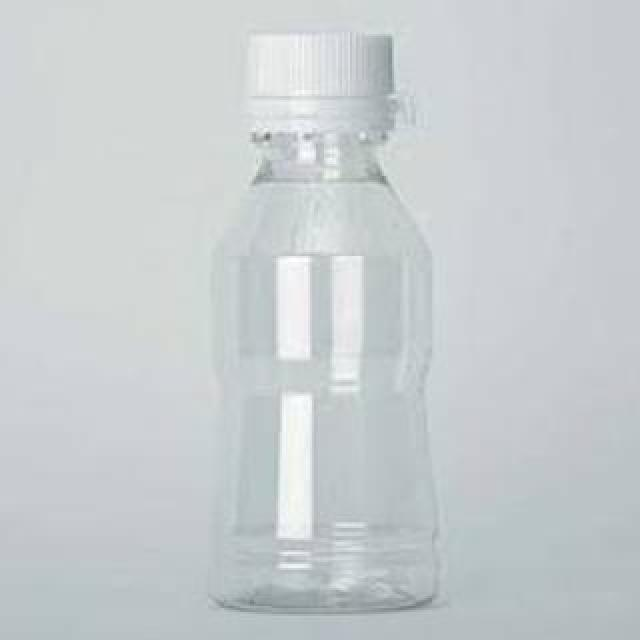Pet_Bottle: (212, 22, 446, 626)
